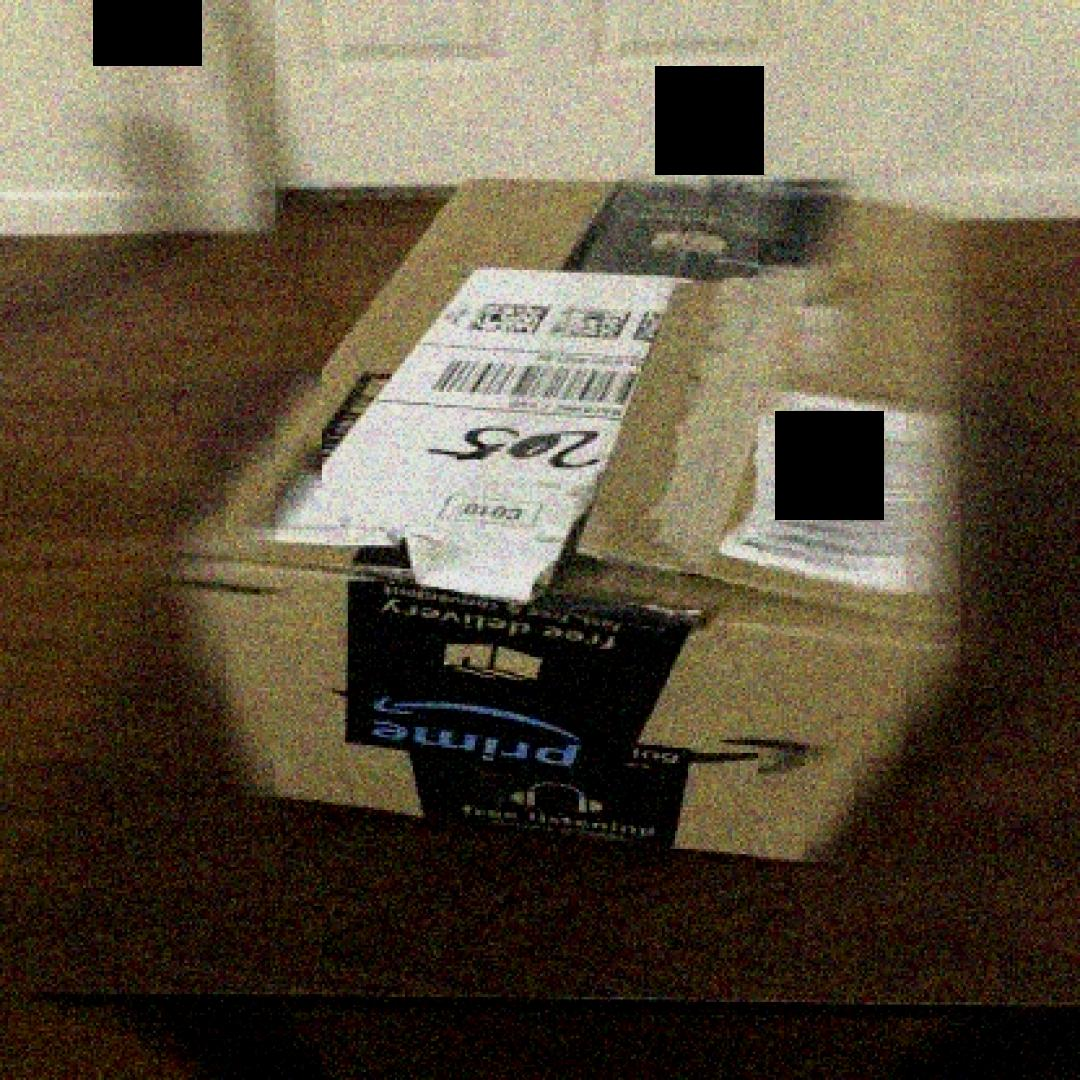package: (169, 166, 982, 878)
